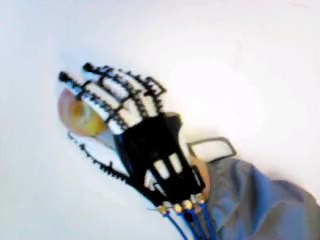apple: (57, 87, 108, 136)
hand: (57, 61, 204, 215)
